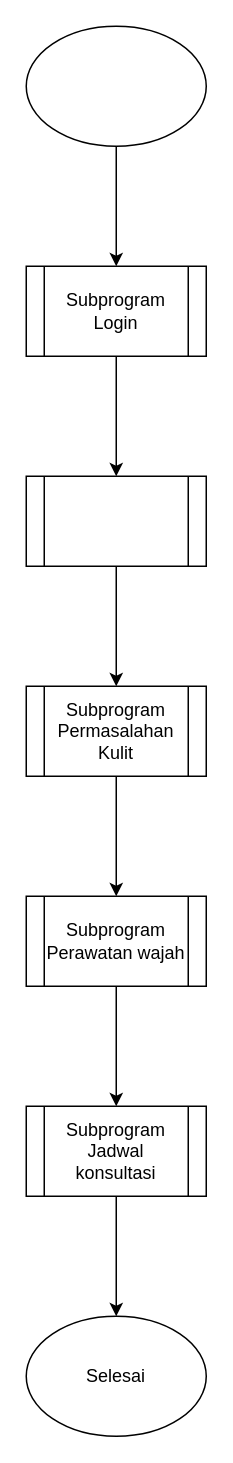
Some shapes in this 233 by 1463 pixel diagram are drawn without their labels. Here are the shapes that lost their labels. From the top down, the box of each, then its label:
(25, 25, 206, 146): Mulai
(25, 475, 206, 566): Subprogram Jenis kulit
